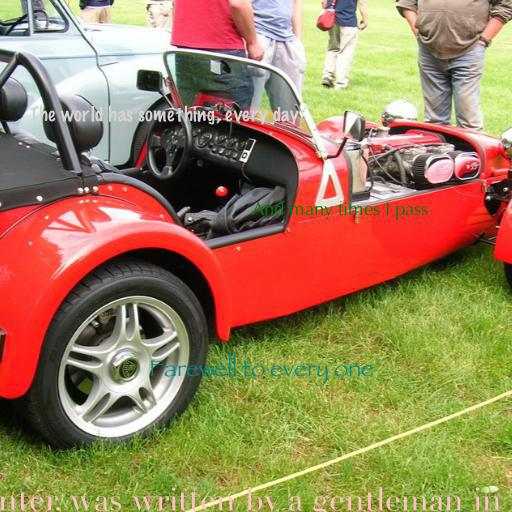Didot: (0, 487, 512, 512)
Marker Felt: (29, 105, 299, 125)
Optima: (252, 201, 428, 221)
Papyrus: (148, 353, 374, 387)
